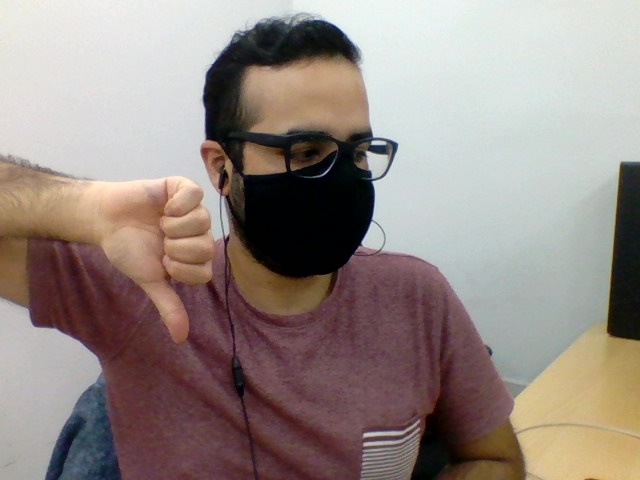ThumbsDown: (100, 175, 214, 344)
